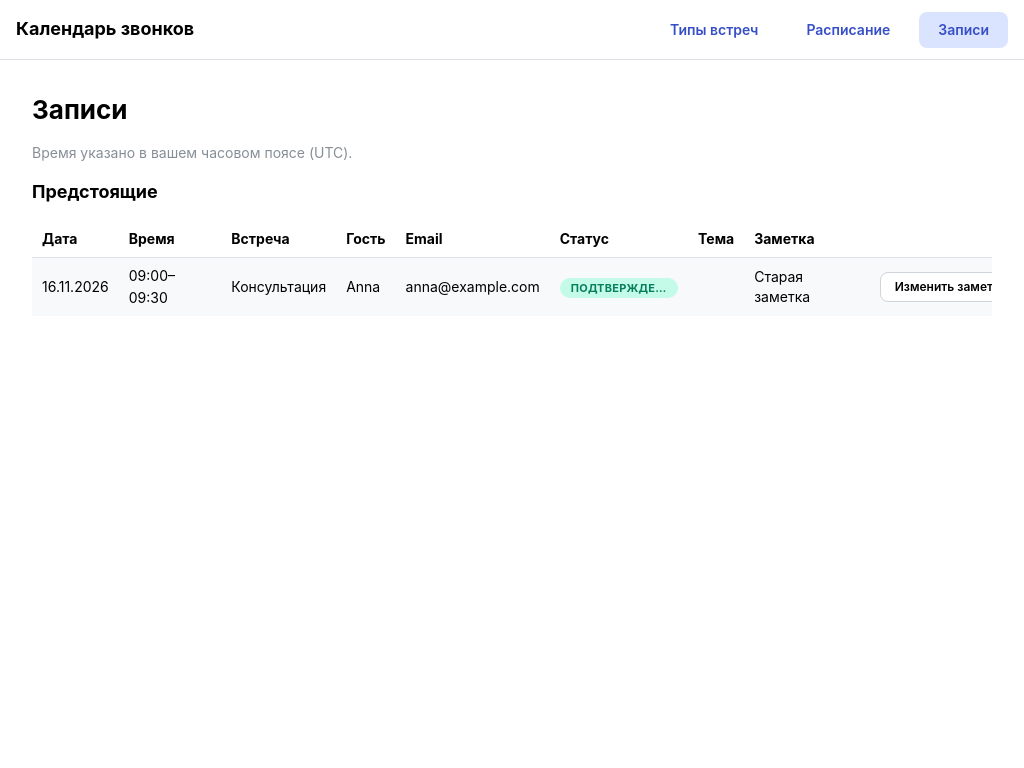
Test: BookingsPage › existing note › removes the note with the delete button
Step 1. Click the button with aria-label "Изменить заметку: Anna, 16.11.2026 09:00" → (951, 287), box x1=880 y1=272 x2=1022 y2=302
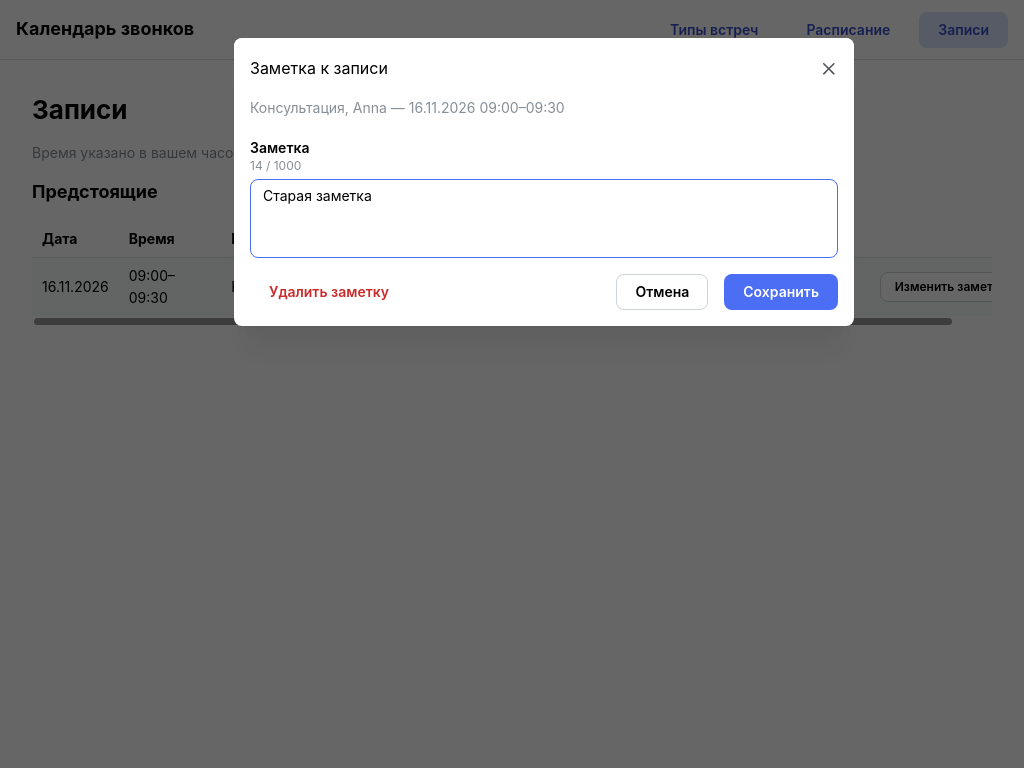
Step 2. Click the button "Удалить заметку" → (329, 292), box x1=250 y1=274 x2=408 y2=310
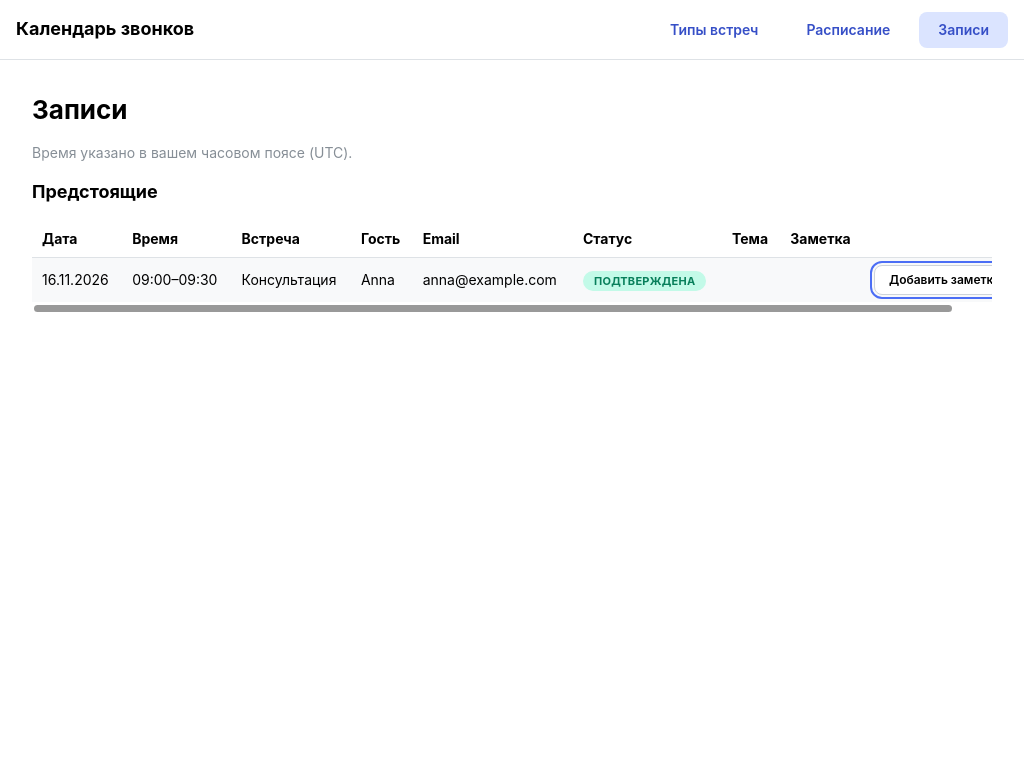
Expected: the dialog is gone
Expected: the 8th cell is empty, x1=780 y1=258 x2=864 y2=302
Expected: the button with aria-label "Добавить заметку: Anna, 16.11.2026 09:00" is shown, x1=874 y1=265 x2=992 y2=295
